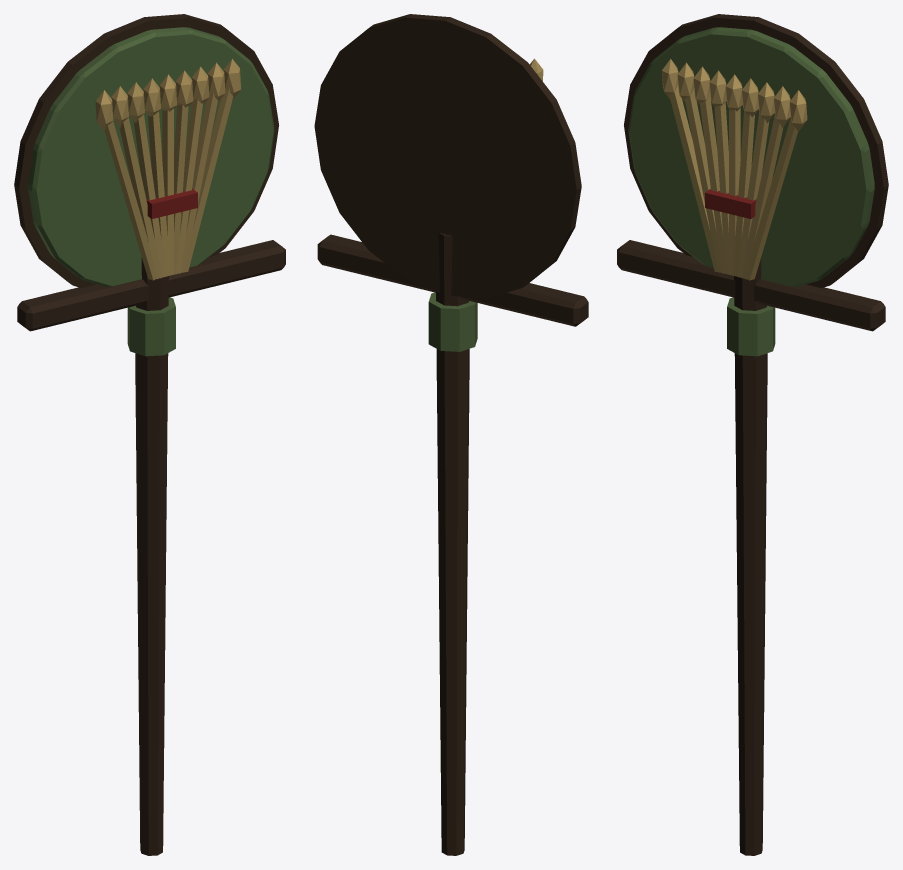
Rendered from sign_grain.glb.
3 renders of one model, left to right at view 1: azimuth 30°, elevation 25°; view 2: azimuth 150°, elevation 25°; view 3: azimuth 330°, elevation 25°, orthographic.
Parts seen in each view (by area): view 1: sign_grain; view 2: sign_grain; view 3: sign_grain.
Part boxes in pixels (x1,y1,x2,y2): sign_grain: (14, 14, 285, 855); sign_grain: (314, 14, 588, 855); sign_grain: (617, 14, 888, 855).
Size of the model in its own units: 1.39 by 4.25 by 0.3333.
